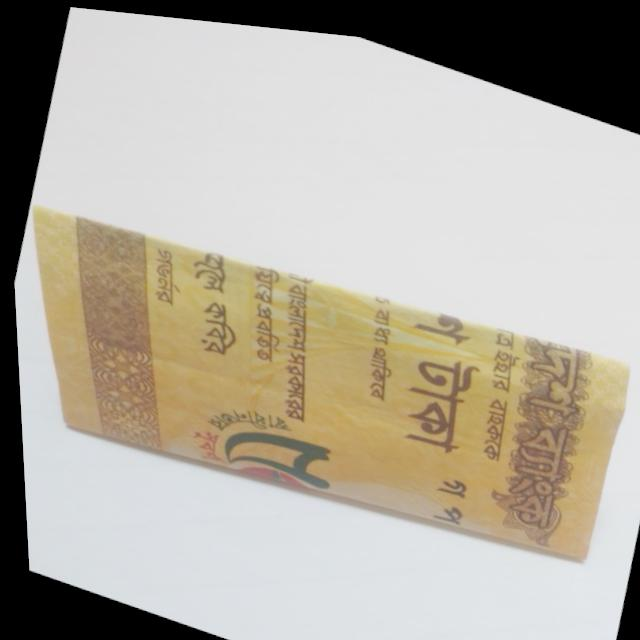Taka: (8, 188, 640, 609)
